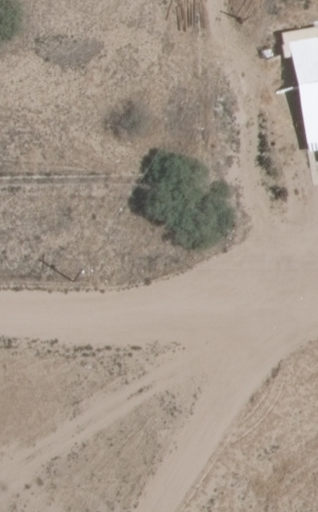DT: (68, 261, 90, 286)
